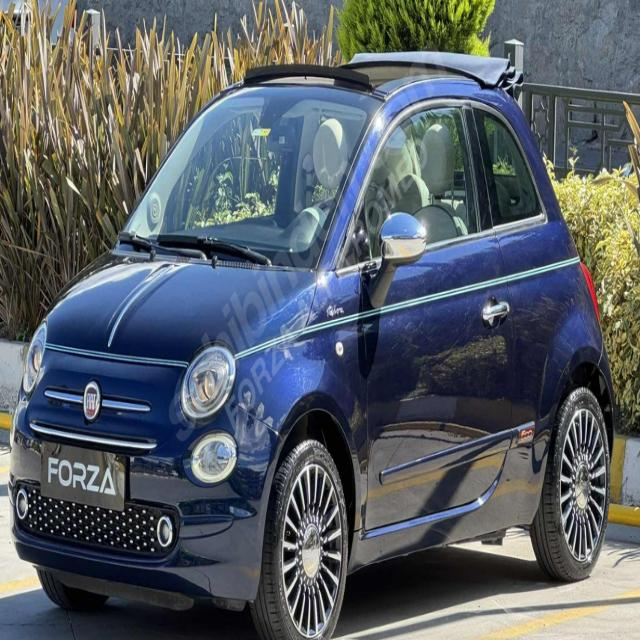fiat: (79, 370, 107, 429)
